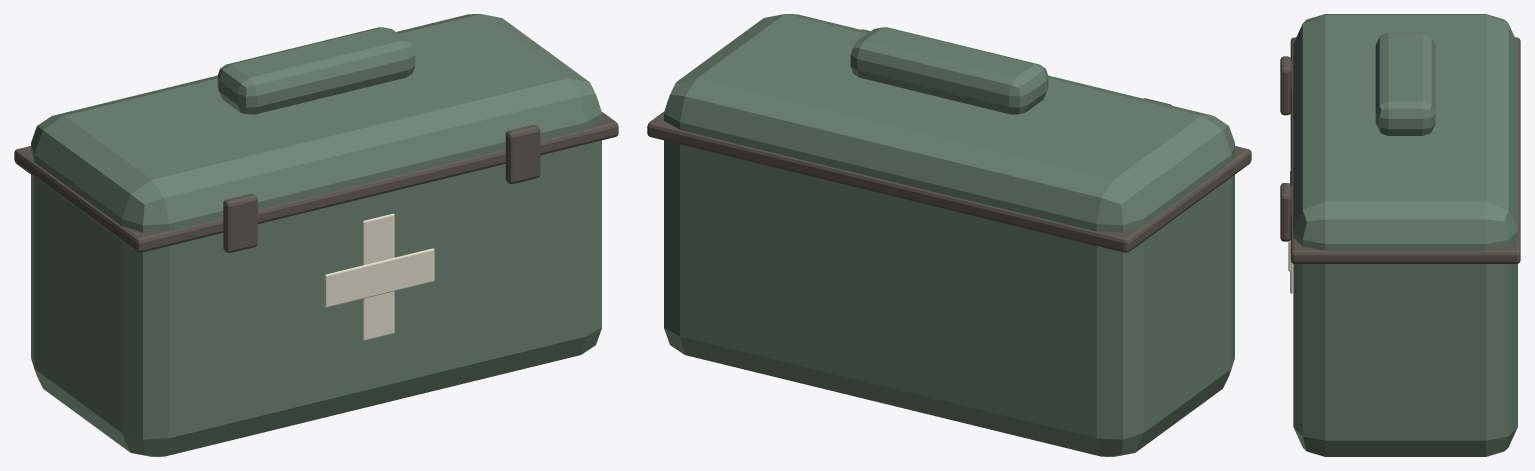
File: prop_medkit.glb
3 renders of one model, left to right at view 1: azimuth 30°, elevation 25°; view 2: azimuth 150°, elevation 25°; view 3: azimuth 270°, elevation 25°, orthographic. The views are drawn at different scales.
Parts seen in each view (by area): view 1: Medical_canvas_case, Carrying_handle, Lid_seam, White_cross_horizontal, White_cross_vertical, Latch.001, Latch; view 2: Medical_canvas_case, Carrying_handle, Lid_seam; view 3: Medical_canvas_case, Carrying_handle, Lid_seam, Latch, Latch.001.
Boxes of the visible parts, <box> form: Medical_canvas_case: <box>31,14,601,456</box>; Carrying_handle: <box>217,27,415,114</box>; Lid_seam: <box>14,111,618,252</box>; White_cross_horizontal: <box>324,248,434,307</box>; White_cross_vertical: <box>362,213,394,340</box>; Latch.001: <box>505,125,540,184</box>; Latch: <box>223,194,257,252</box>; Medical_canvas_case: <box>664,14,1234,456</box>; Carrying_handle: <box>850,27,1048,114</box>; Lid_seam: <box>647,111,1251,252</box>; Medical_canvas_case: <box>1293,14,1517,456</box>; Carrying_handle: <box>1375,33,1435,135</box>; Lid_seam: <box>1290,37,1520,263</box>; Latch: <box>1280,56,1291,115</box>; Latch.001: <box>1280,183,1291,241</box>.
Size of the model in its own units: 0.273 by 0.174 by 0.1285.
